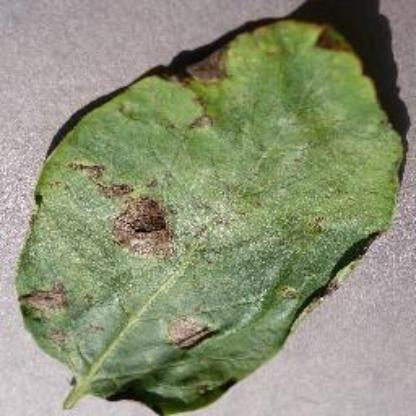Early-Blight: (16, 16, 406, 400)
